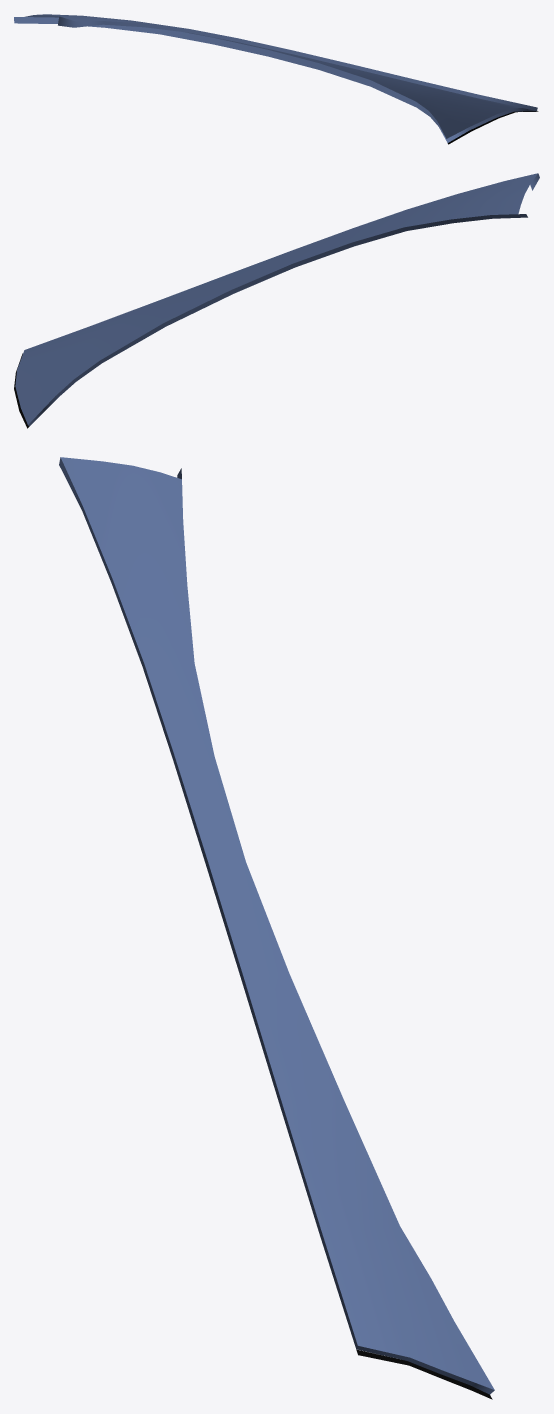
The picture shows the model from 3 angles, top to bottom: view 1: azimuth 30°, elevation 25°; view 2: azimuth 150°, elevation 25°; view 3: azimuth 270°, elevation 25°; orthographic projection. The views are drawn at different scales.
Parts seen in each view (by area): view 1: U236_17_181C_L_U236_17_181C_L_1_DaS_E, U236_17_181C_L_U236_17_181C_L_1_DaS, U236_17_181C_L_2_D_U236_17_181C_L; view 2: U236_17_181C_L_U236_17_181C_L_1_DaS, U236_17_181C_L_U236_17_181C_L_1_DaS_E; view 3: U236_17_181C_L_U236_17_181C_L_1_DaS, U236_17_181C_L_U236_17_181C_L_1_DaS_E.
Part boxes in pixels (x1=…): U236_17_181C_L_U236_17_181C_L_1_DaS_E: x1=14, y1=16, x2=537, y2=142; U236_17_181C_L_U236_17_181C_L_1_DaS: x1=25, y1=14, x2=521, y2=138; U236_17_181C_L_2_D_U236_17_181C_L: x1=447, y1=111, x2=538, y2=144; U236_17_181C_L_U236_17_181C_L_1_DaS: x1=15, y1=173, x2=537, y2=424; U236_17_181C_L_U236_17_181C_L_1_DaS_E: x1=28, y1=173, x2=539, y2=426; U236_17_181C_L_U236_17_181C_L_1_DaS: x1=60, y1=457, x2=494, y2=1389; U236_17_181C_L_U236_17_181C_L_1_DaS_E: x1=59, y1=457, x2=494, y2=1394.
Bounding box in the file's own units: 66.03 × 37.66 × 27.07.
